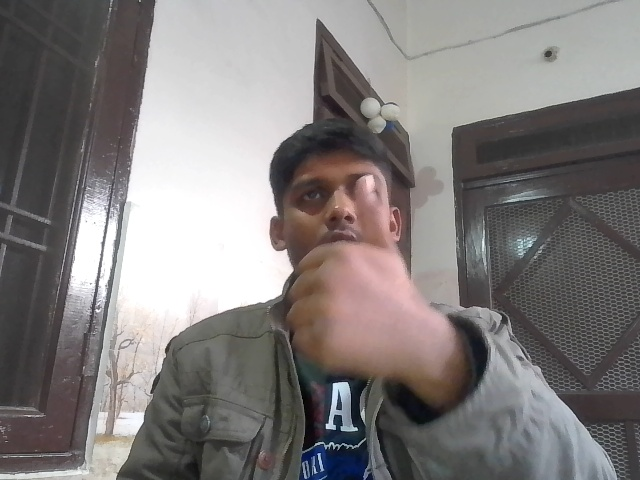BestOfLuck: (283, 174, 407, 379)
